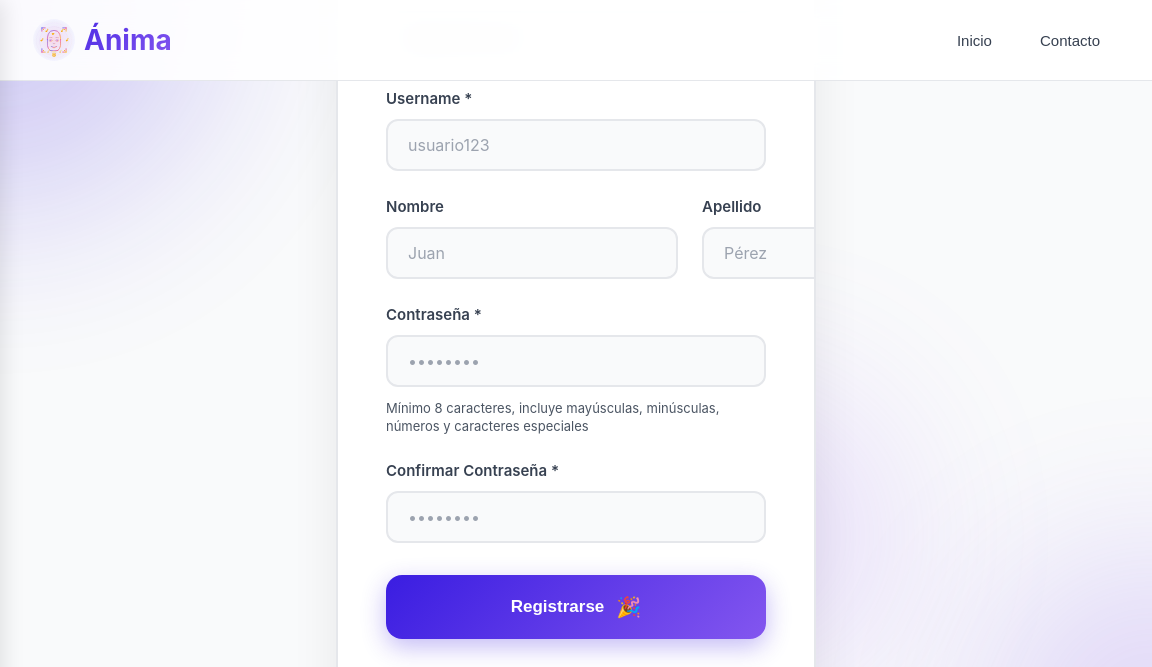
Test: Register component › shows password mismatch error
(page scrolled)
Step 1. Type "pass1" into the password field labelled "Contraseña *" → (576, 361), box 386,335 -> 766,387
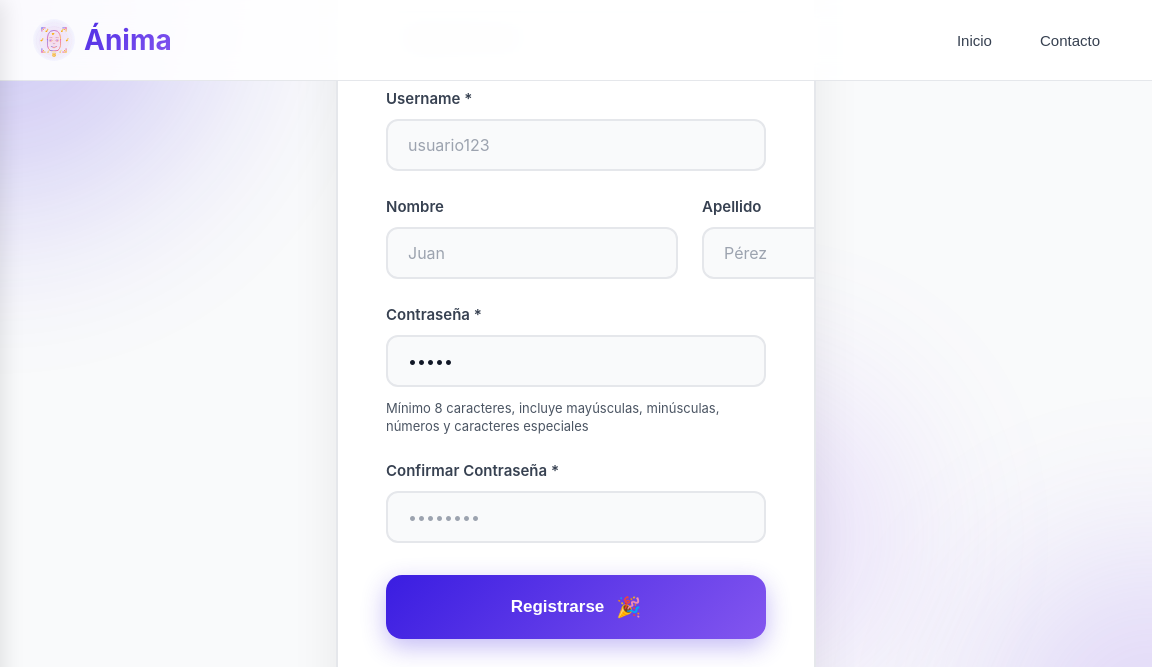
Step 2. Type "pass2" into the password field labelled "Confirmar Contraseña *" → (576, 517), box 386,491 -> 766,543
(page scrolled)
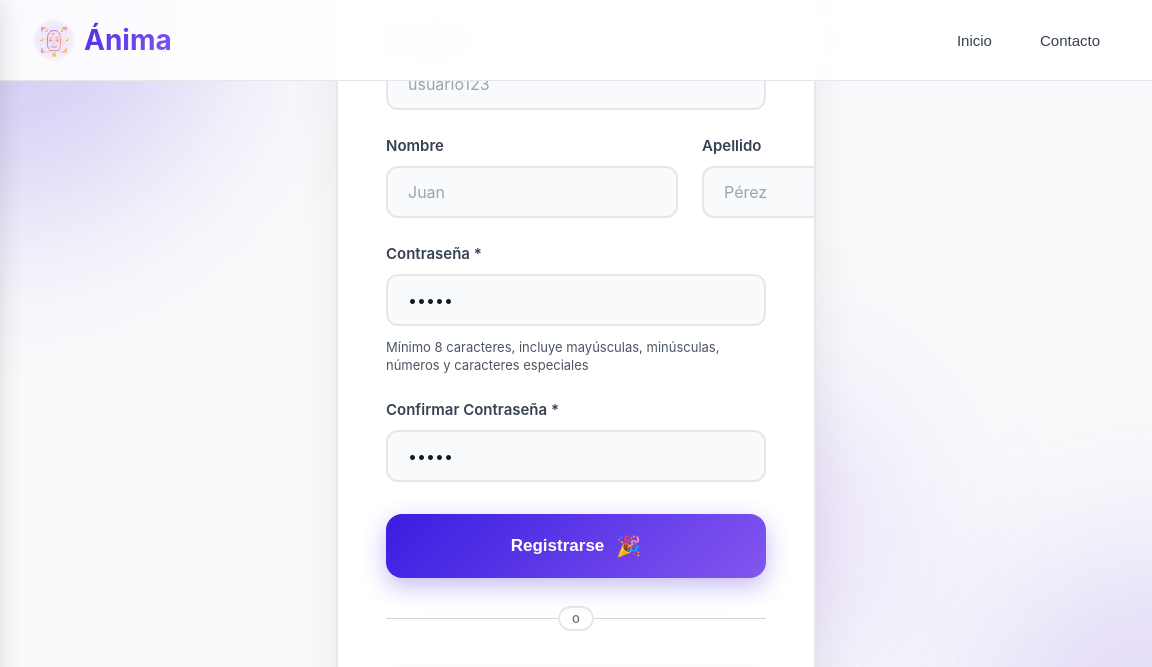
ensure we actually submit the form (click sometimes doesn't trigger submit in this env)
Step 3. Submit the form
(page scrolled)
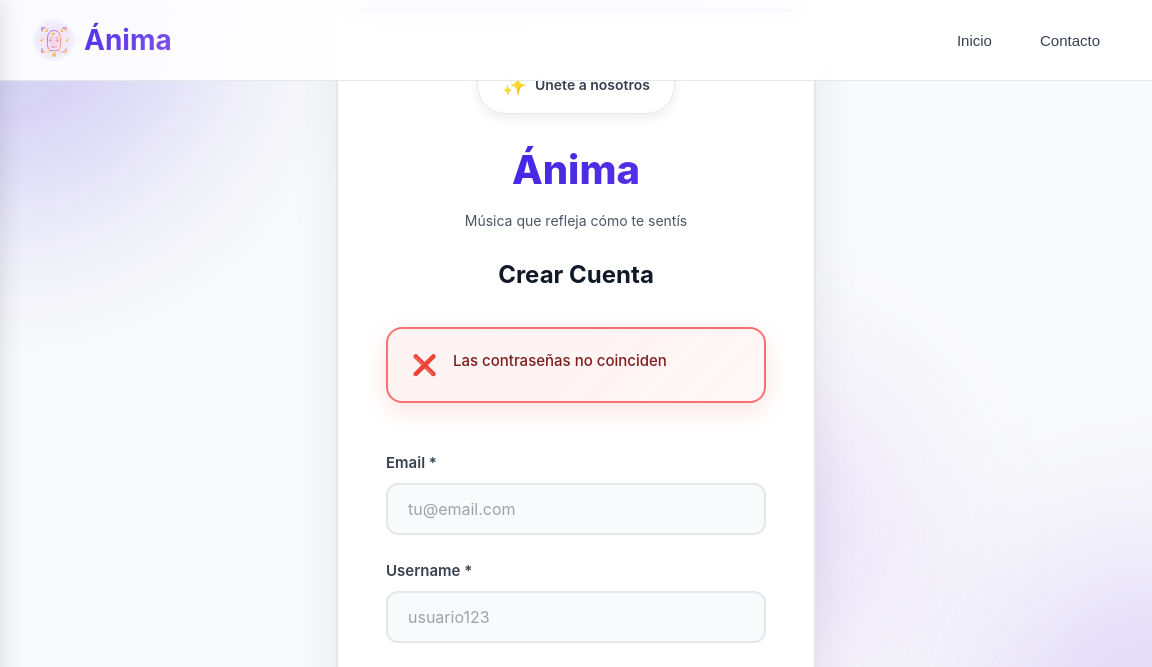
Check: the text "Las contraseñas no coinciden" is shown, box 453,349 -> 667,373
